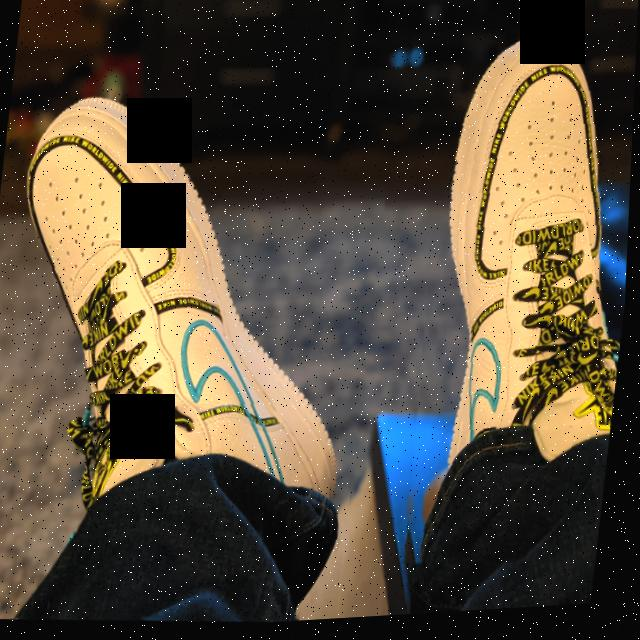shoe: (0, 46, 403, 640), (392, 3, 639, 582)
